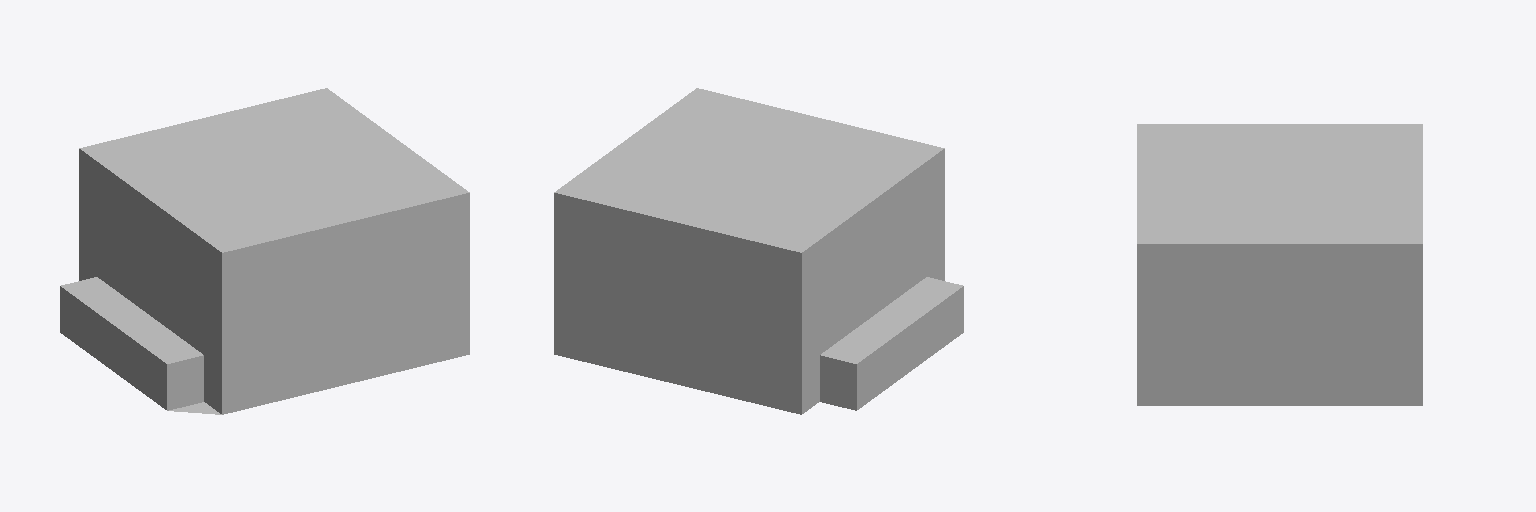
File: modularBuildings_042.obj
3 views of the same model, side by side, from view 1: azimuth 30°, elevation 25°; view 2: azimuth 150°, elevation 25°; view 3: azimuth 270°, elevation 25° (orthographic).
Visible parts, largest first — view 1: Mesh1 Group1 Model; view 2: Mesh1 Group1 Model; view 3: Mesh1 Group1 Model.
Boxes of the visible parts, x1=… form: Mesh1 Group1 Model: x1=60, y1=88, x2=469, y2=414; Mesh1 Group1 Model: x1=554, y1=88, x2=963, y2=414; Mesh1 Group1 Model: x1=1137, y1=124, x2=1422, y2=405.
Bounding box in the file's own units: 1.15 × 0.625 × 1.